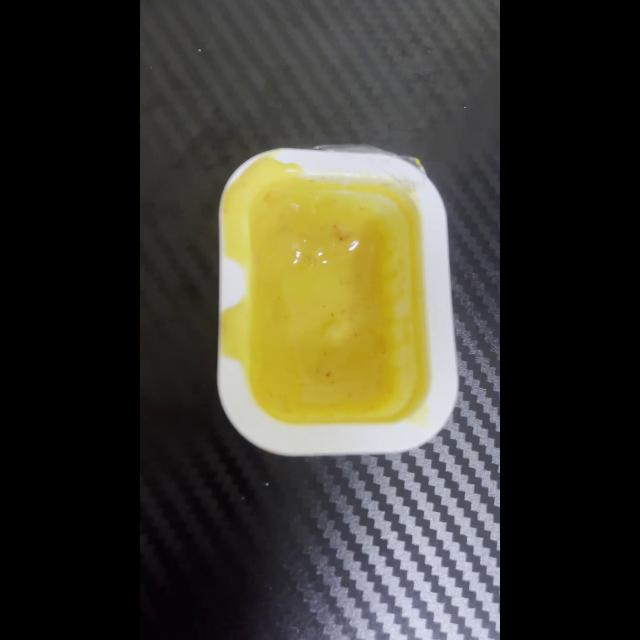dirty: (224, 140, 466, 454)
